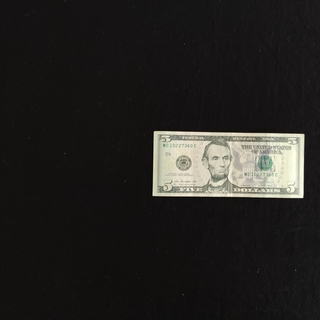5USDFront: (151, 130, 305, 199)
